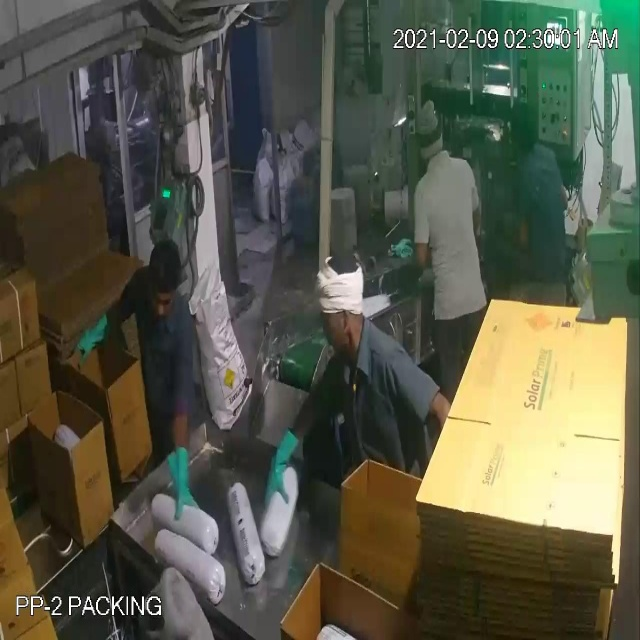Guantes: (242, 419, 310, 522), (154, 433, 212, 525), (69, 315, 122, 365)
